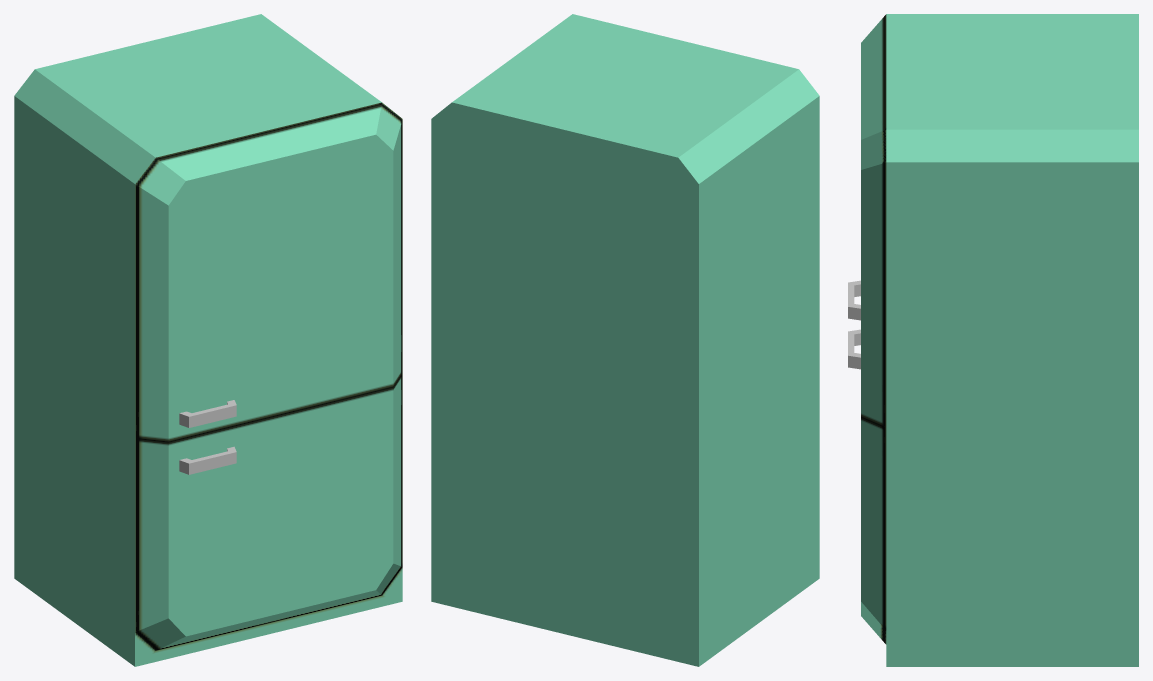
Rendered from refrigerator4_PLY.fbx.
The picture shows the model from 3 angles, left to right: view 1: azimuth 30°, elevation 25°; view 2: azimuth 150°, elevation 25°; view 3: azimuth 270°, elevation 25°; orthographic projection. The views are drawn at different scales.
Visible parts, largest first — view 1: refrigerator4_PLY; view 2: refrigerator4_PLY; view 3: refrigerator4_PLY.
Part boxes in pixels (box(x1,y1,x2,y2)): refrigerator4_PLY: box(14, 14, 402, 666); refrigerator4_PLY: box(431, 14, 819, 666); refrigerator4_PLY: box(848, 14, 1138, 666).
Size of the model in its own units: 2.15 by 3.86 by 1.93.
